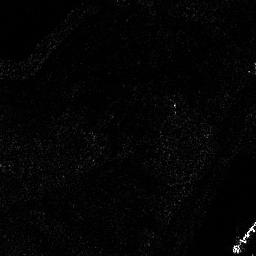ship: (230, 222, 256, 255)
